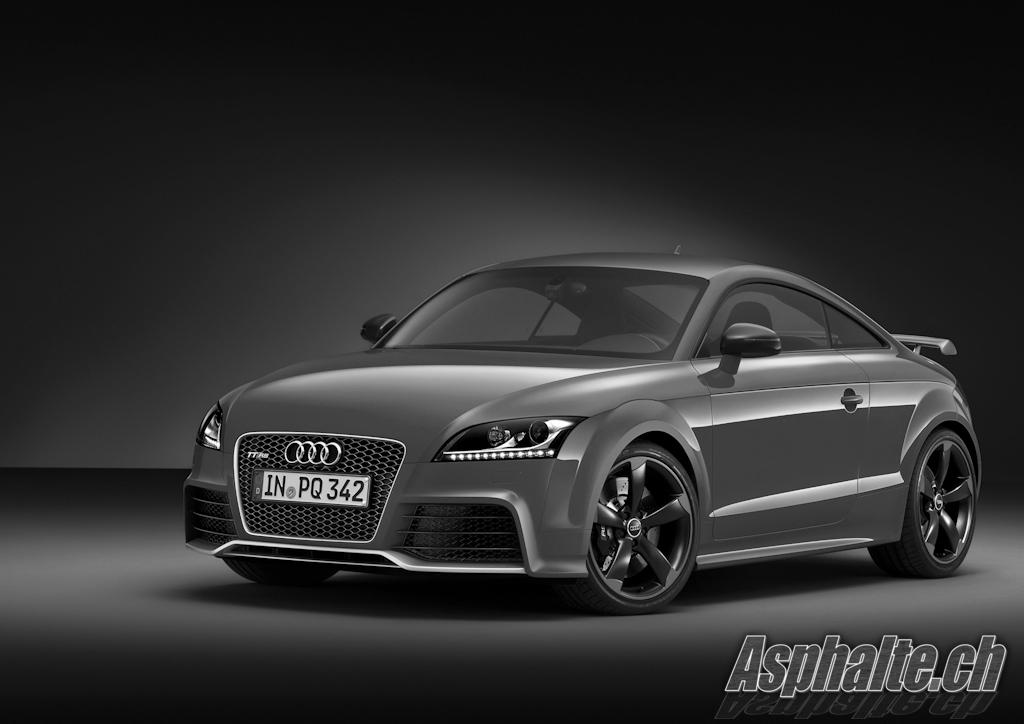car: (178, 249, 984, 620)
